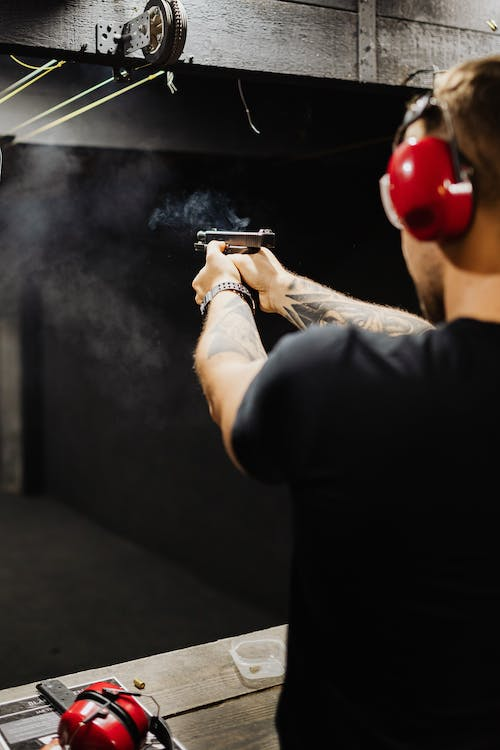gun: (189, 226, 279, 258)
